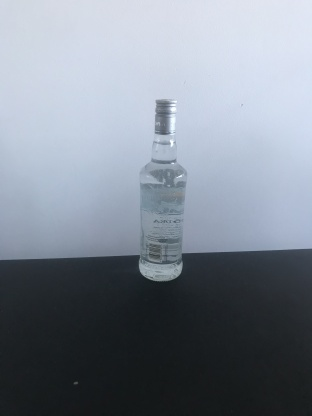nakretka: (153, 96, 178, 136)
